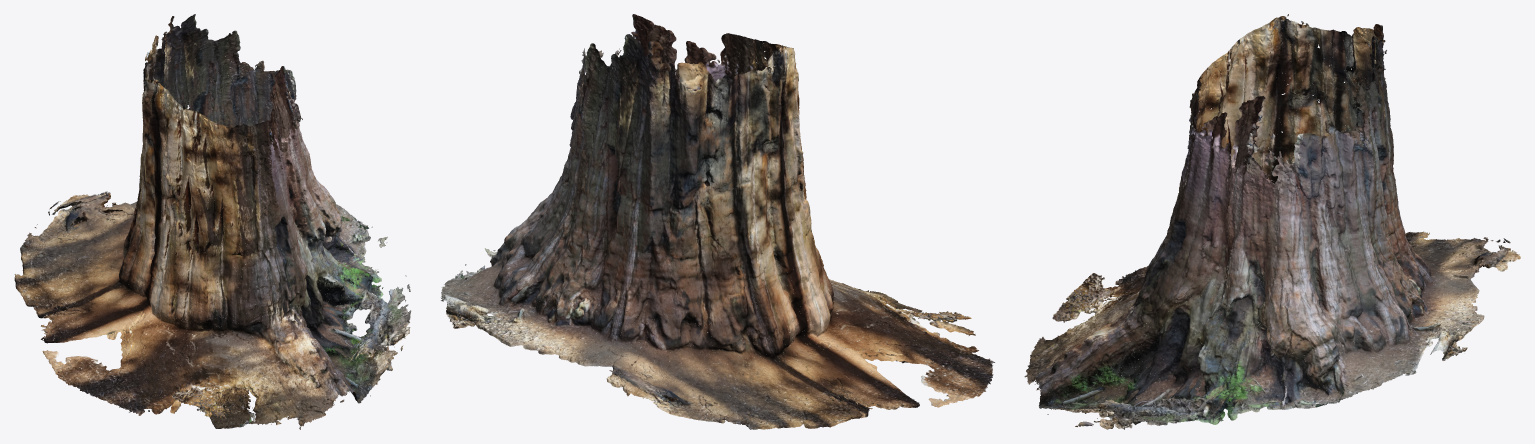
The model's file is giant-sequoia.glb.
The picture shows the model from 3 angles, left to right: view 1: azimuth 30°, elevation 25°; view 2: azimuth 150°, elevation 25°; view 3: azimuth 270°, elevation 25°; orthographic projection. The views are drawn at different scales.
Visible parts, largest first — view 1: Model; view 2: Model; view 3: Model.
Boxes of the visible parts, x1,y1,x2,y2 form: Model: [14, 14, 411, 429]; Model: [441, 14, 994, 429]; Model: [1024, 14, 1520, 429].
Bounding box in the file's own units: 7.4 × 6.24 × 7.52.
2 materials, 2 textured.
